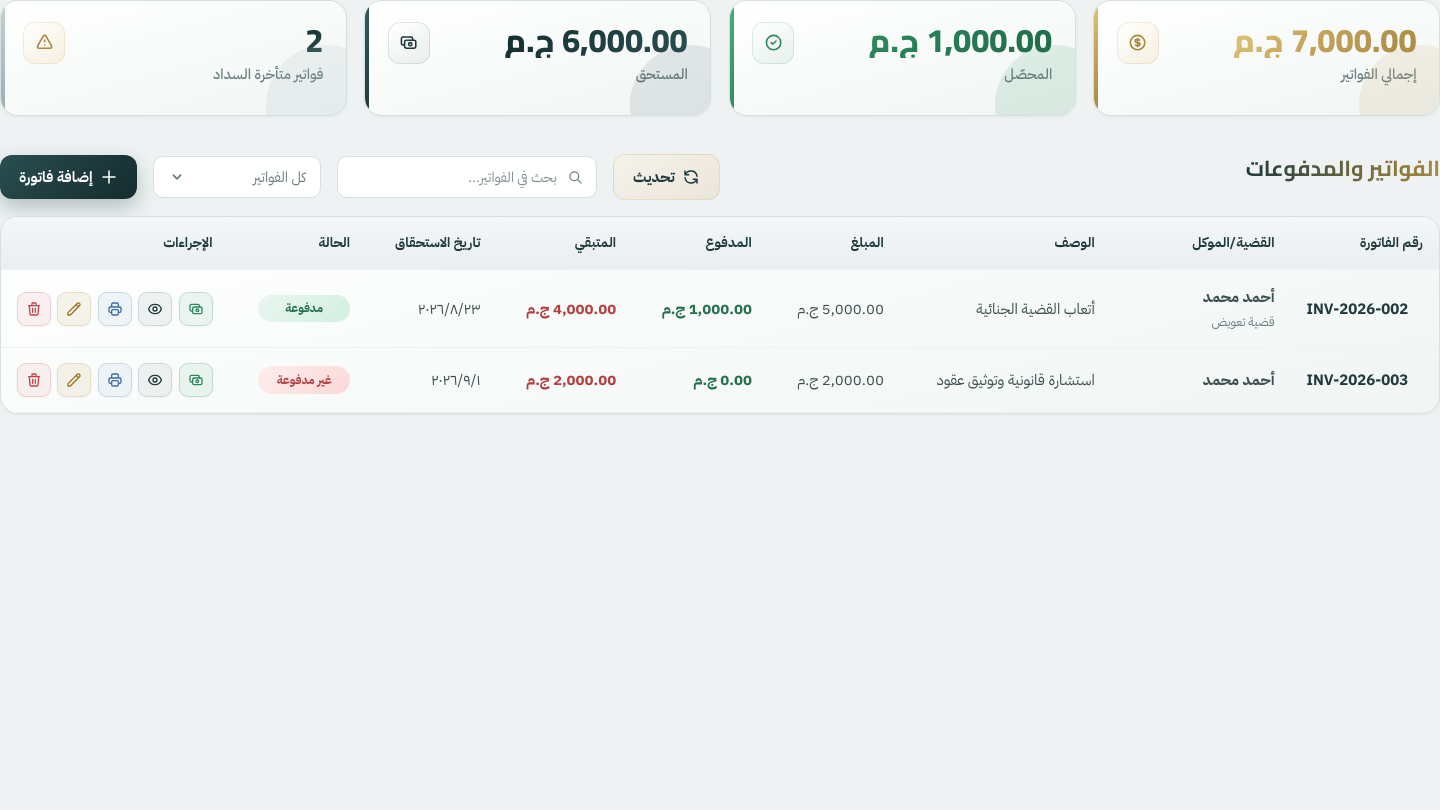
Test case: InvoicesPage Feature Tests › validates required fields when creating an invoice
This screenshot has width=1440, height=810.
Click the button "إضافة فاتورة" at point(68, 177), box [0,155,137,199]
(page scrolled)
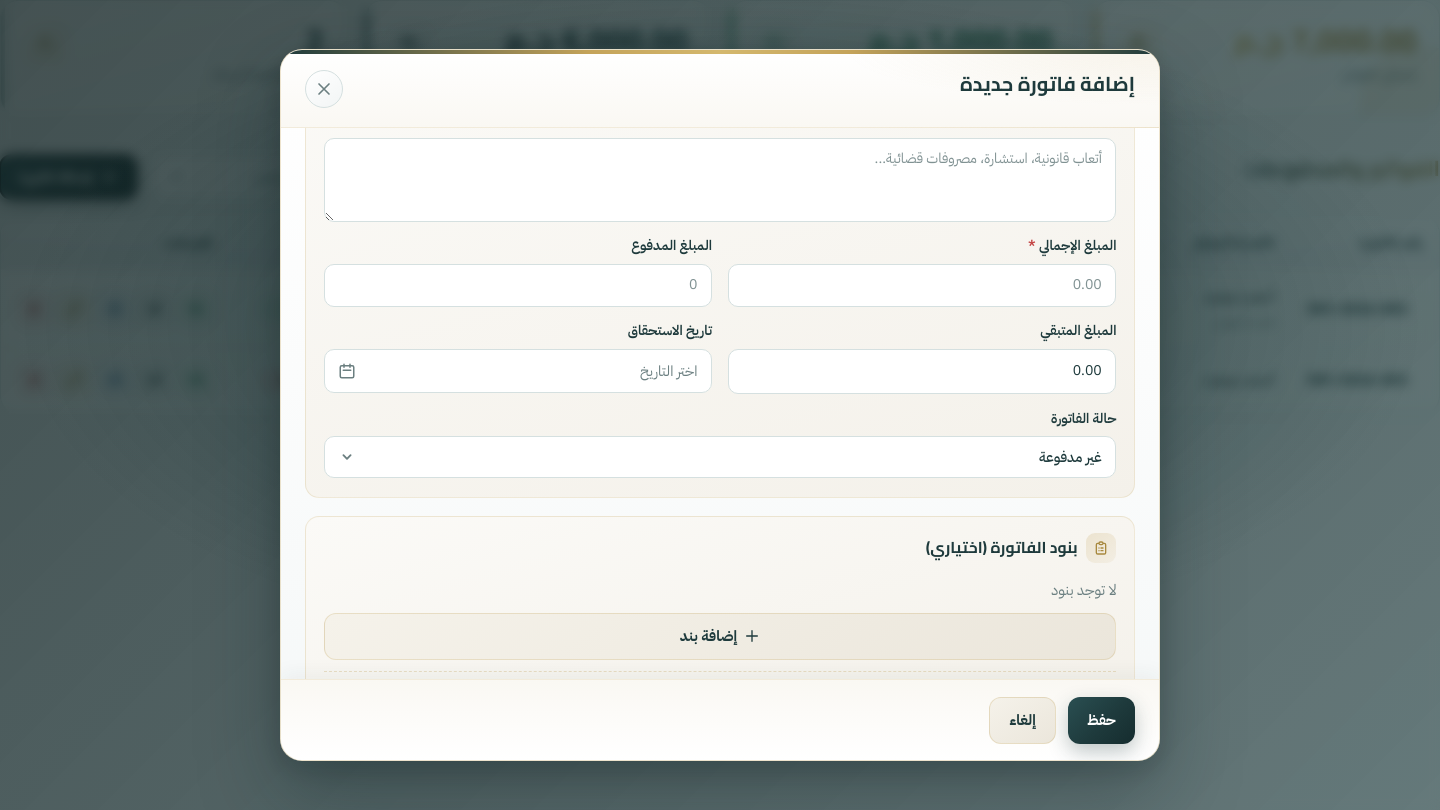
expect the heading "إضافة فاتورة جديدة" is shown: met, box [960,70,1135,97]
Submit the form with id "invoice-form"
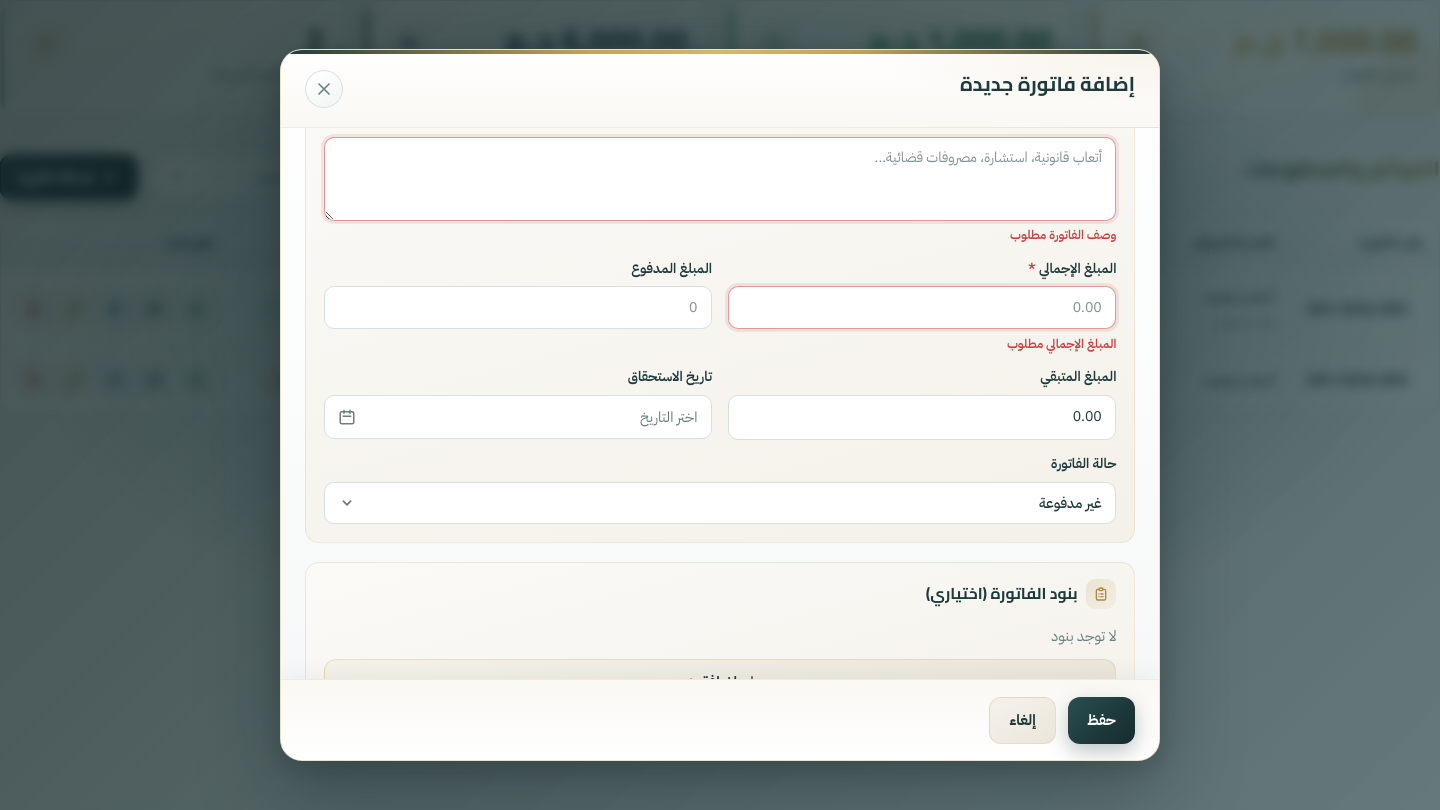
expect the text "وصف الفاتورة مطلوب" is shown: met, box [1010,225,1116,244]
expect the text "المبلغ الإجمالي مطلوب" is shown: met, box [1007,334,1116,353]
